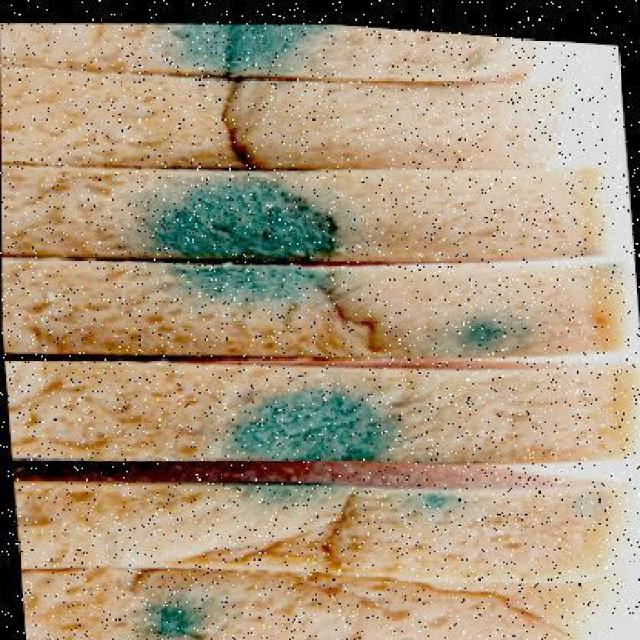Wet: (13, 23, 624, 634)
